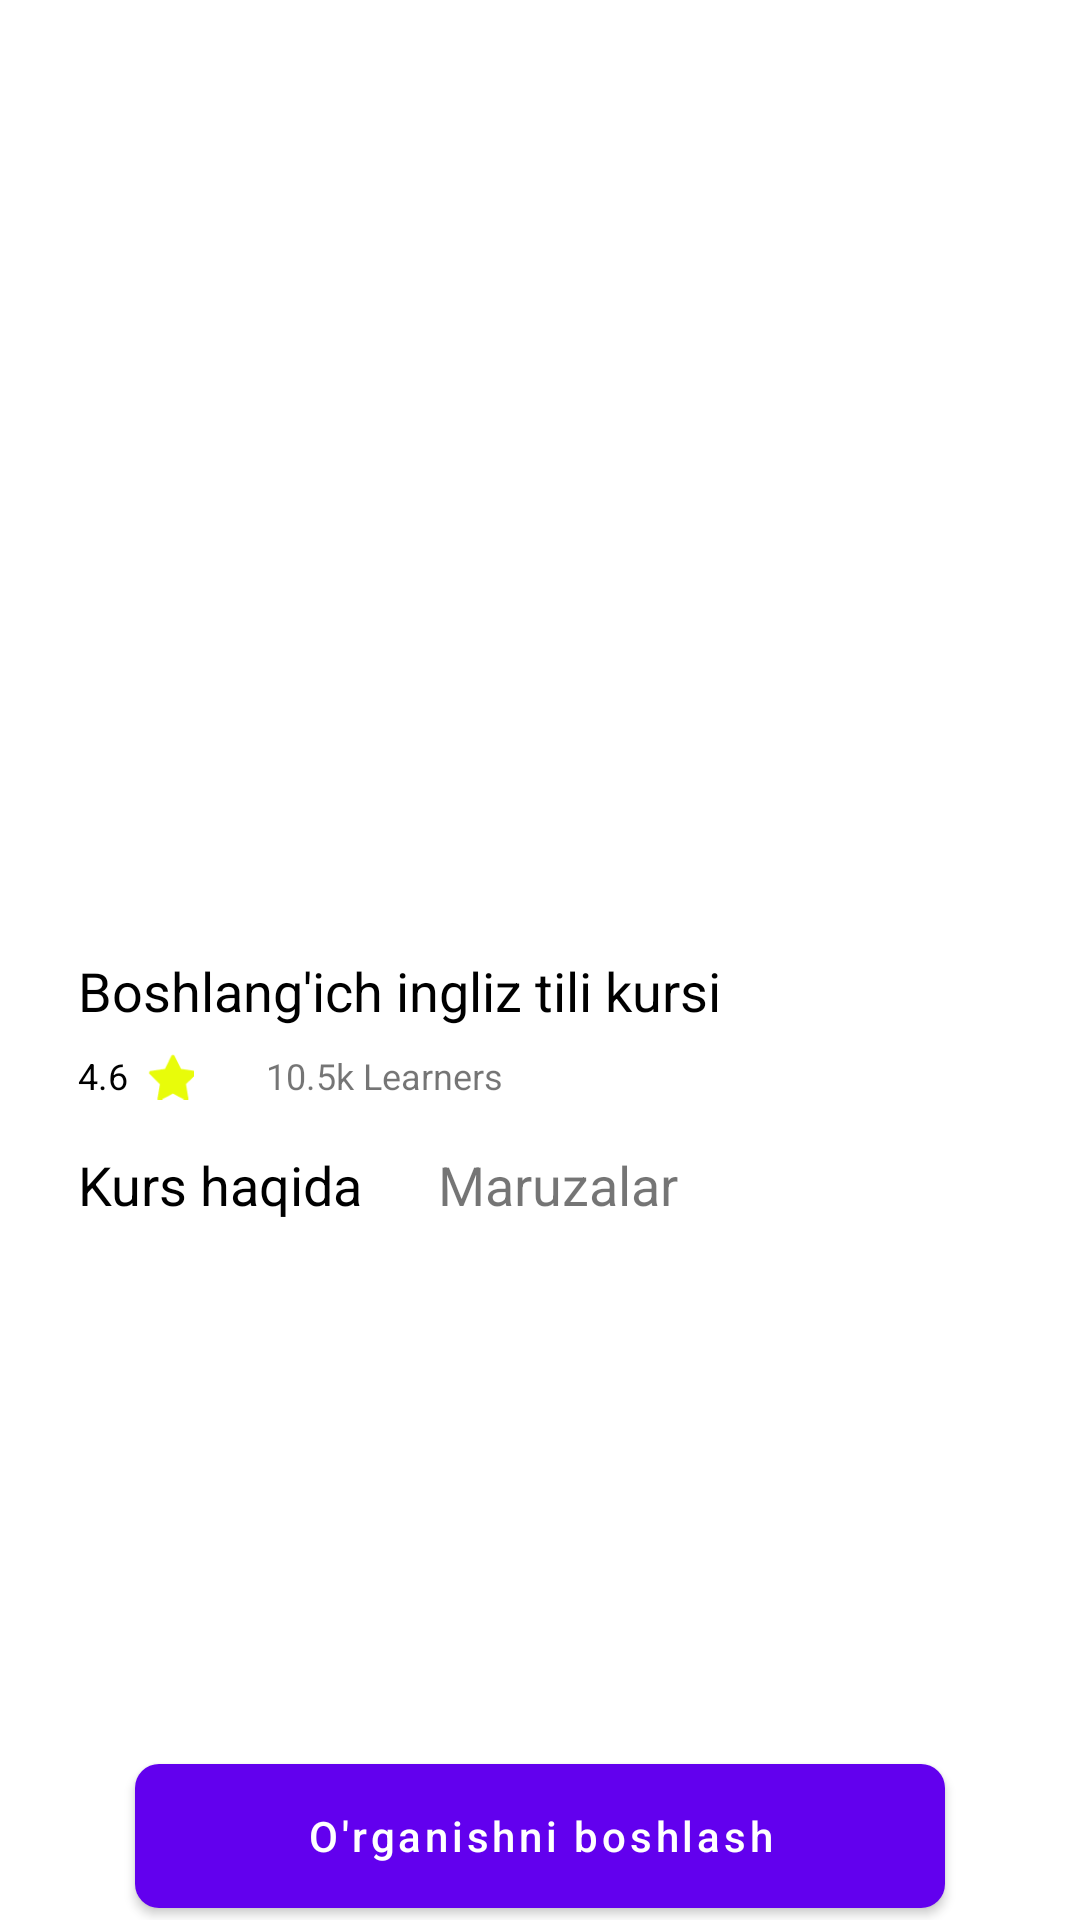

Screen size 1080w x 1920h. Icon name, then its center in pixels as (x,y):
star: (171,1077)
